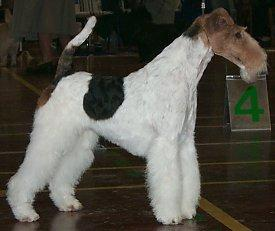wire-haired_fox_terrier: (5, 4, 270, 230)
